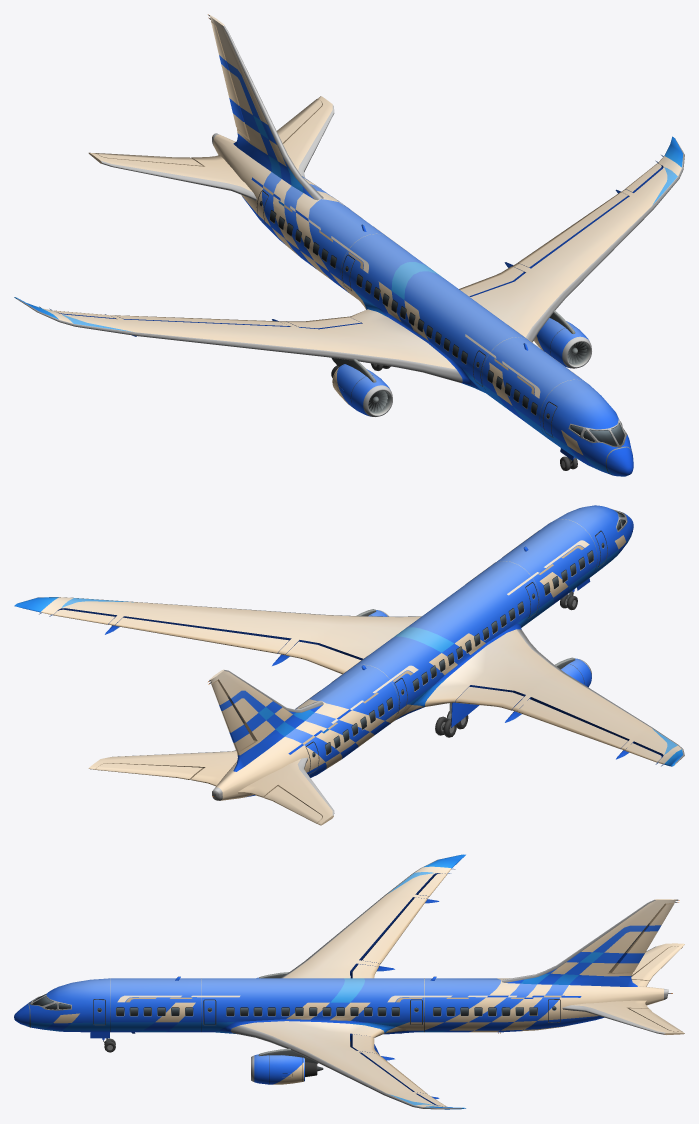
3 views of the same model, one above another, from view 1: azimuth 30°, elevation 25°; view 2: azimuth 150°, elevation 25°; view 3: azimuth 270°, elevation 25° (orthographic). The views are drawn at different scales.
Parts seen in each view (by area): view 1: Fuselage_Plane_4B, Flap_4B_F.L1, Livery_4B, Flap_4B_F.R1, Rudder_4B, Flap_4B_F.L2; view 2: Fuselage_Plane_4B, Flap_4B_F.L1, Flap_4B_F.R1, Flap_4B_F.L2, Rudder_4B, Elevator_4B_R.L, Livery_4B, Flap_4B_F.R2, Elevator_4B_R.R, Aileron_4B_F.L; view 3: Fuselage_Plane_4B, Rudder_4B, Flap_4B_F.R1, Livery_4B, Elevator_4B_R.R, Flap_4B_F.L1, Flap_4B_F.L2.
Part boxes in pixels (x1=…): Fuselage_Plane_4B: x1=14, y1=14, x2=684, y2=476; Flap_4B_F.L1: x1=518, y1=192, x2=628, y2=268; Livery_4B: x1=251, y1=177, x2=581, y2=398; Flap_4B_F.R1: x1=115, y1=315, x2=289, y2=326; Rudder_4B: x1=211, y1=21, x2=249, y2=137; Flap_4B_F.L2: x1=459, y1=266, x2=524, y2=296; Fuselage_Plane_4B: x1=14, y1=505, x2=684, y2=825; Flap_4B_F.L1: x1=115, y1=617, x2=289, y2=653; Flap_4B_F.R1: x1=517, y1=699, x2=627, y2=749; Flap_4B_F.L2: x1=286, y1=641, x2=360, y2=674; Rudder_4B: x1=211, y1=680, x2=254, y2=751; Elevator_4B_R.L: x1=95, y1=763, x2=203, y2=779; Livery_4B: x1=288, y1=530, x2=589, y2=754; Flap_4B_F.R2: x1=455, y1=686, x2=523, y2=710; Elevator_4B_R.R: x1=264, y1=786, x2=322, y2=823; Aileron_4B_F.L: x1=53, y1=609, x2=115, y2=624; Fuselage_Plane_4B: x1=14, y1=854, x2=684, y2=1109; Rudder_4B: x1=609, y1=903, x2=674, y2=972; Flap_4B_F.R1: x1=361, y1=897, x2=427, y2=963; Livery_4B: x1=117, y1=995, x2=581, y2=1002; Elevator_4B_R.R: x1=631, y1=946, x2=682, y2=981; Flap_4B_F.L1: x1=361, y1=1053, x2=426, y2=1093; Flap_4B_F.L2: x1=350, y1=1034, x2=378, y2=1053.
Bounding box in the file's own units: 4356 × 1211 × 4870.
